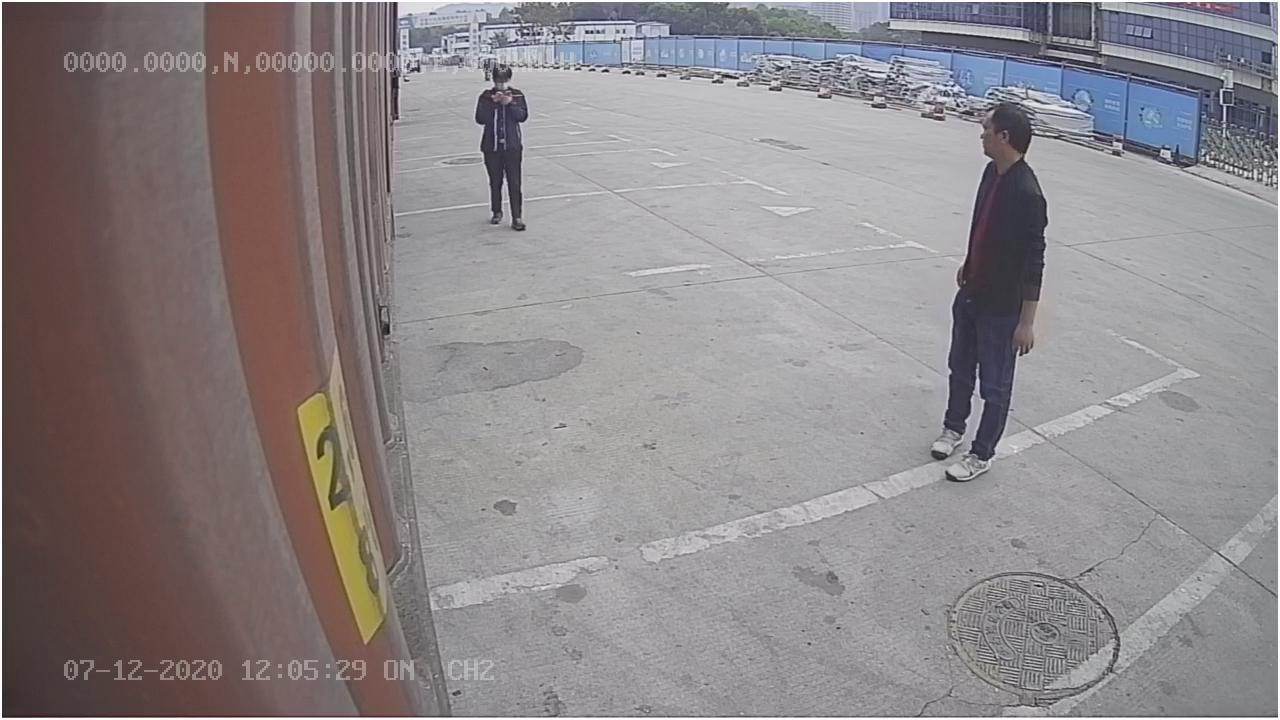person: (924, 102, 1052, 489)
